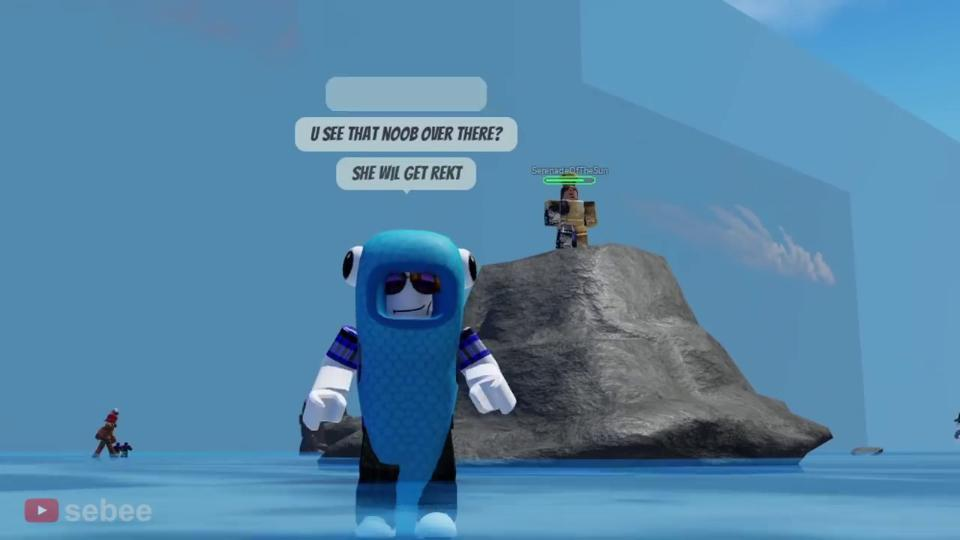Character: (303, 229, 515, 540), (544, 183, 599, 250), (94, 408, 132, 459)
